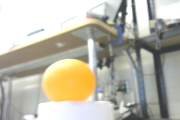PingPongBall: (44, 59, 95, 103)
